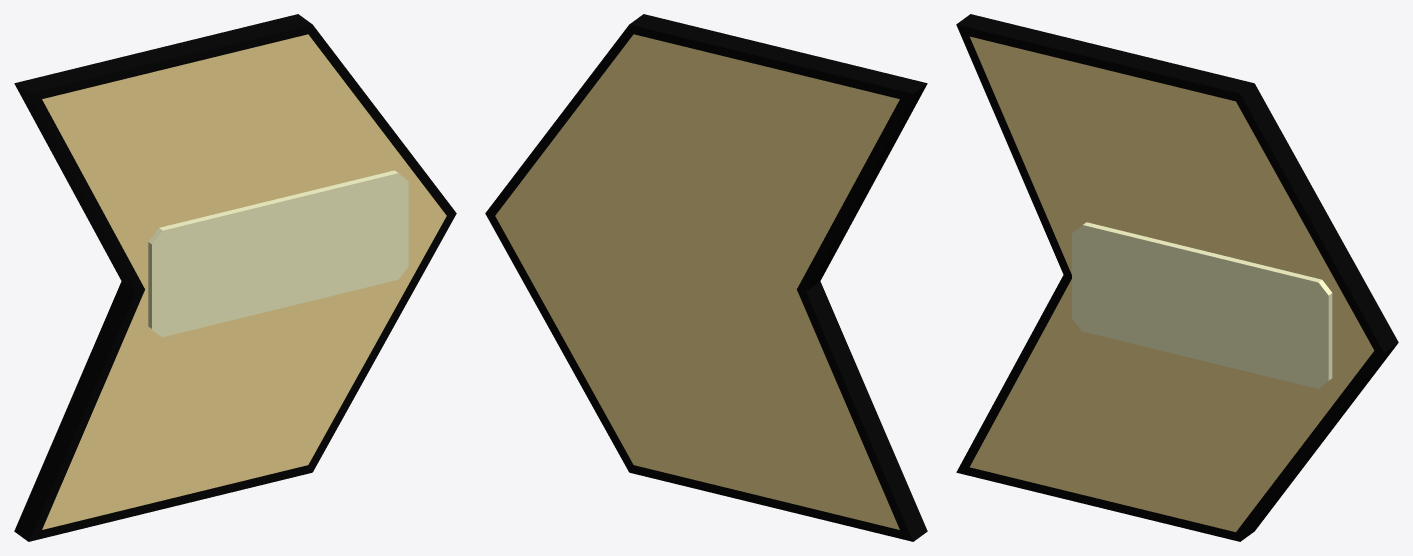
3 views of the same model, side by side, from view 1: azimuth 30°, elevation 25°; view 2: azimuth 150°, elevation 25°; view 3: azimuth 330°, elevation 25° (orthographic).
Parts seen in each view (by area): view 1: root, Text; view 2: root; view 3: root, Text.
Part boxes in pixels (x1,y1,x2,y2): root: (14,14,456,541); Text: (152,173,408,337); root: (485,14,927,541); root: (956,14,1398,541); Text: (1072,225,1328,388).
Bounding box in the file's own units: 2.59 × 2.59 × 0.191.
